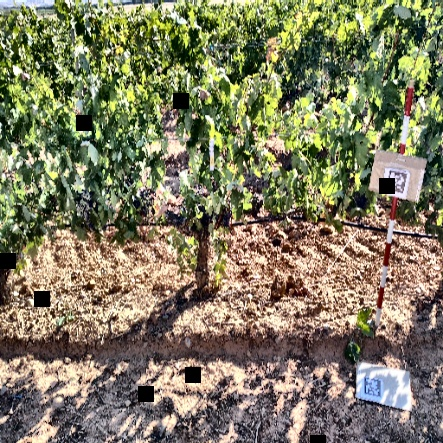QR: (386, 169, 408, 192), (366, 377, 382, 397)
